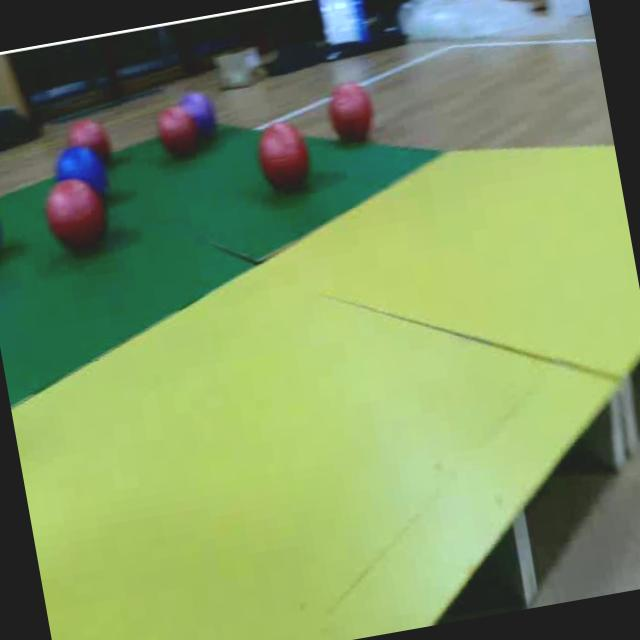blue_ball: (47, 140, 112, 212), (0, 189, 7, 262)
purple_ball: (175, 88, 219, 142)
red_ball: (44, 176, 104, 254), (252, 119, 312, 190), (324, 76, 376, 142), (65, 114, 113, 171), (150, 103, 197, 158)
